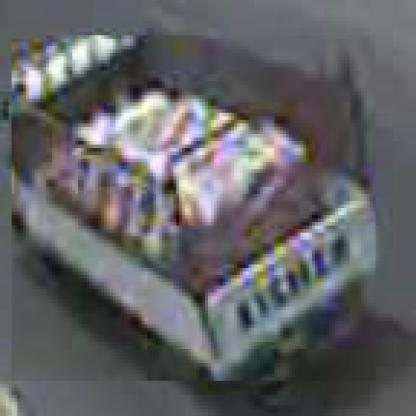truck: (13, 37, 380, 386)
